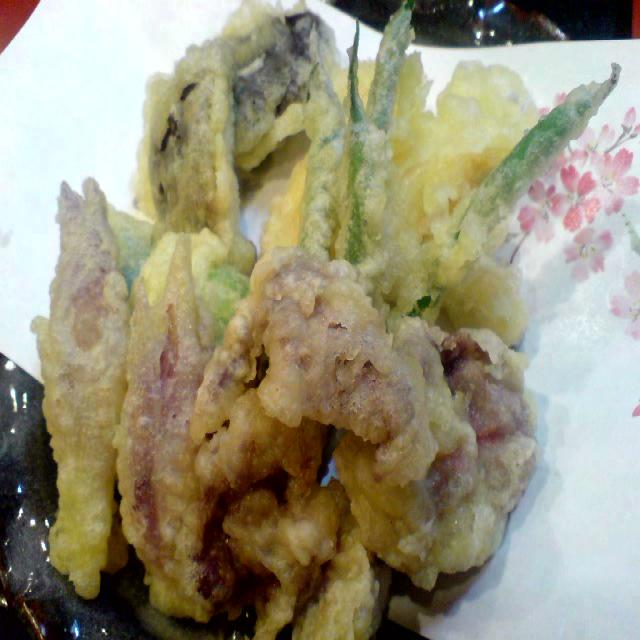蔬菜料理: (36, 0, 597, 640)
